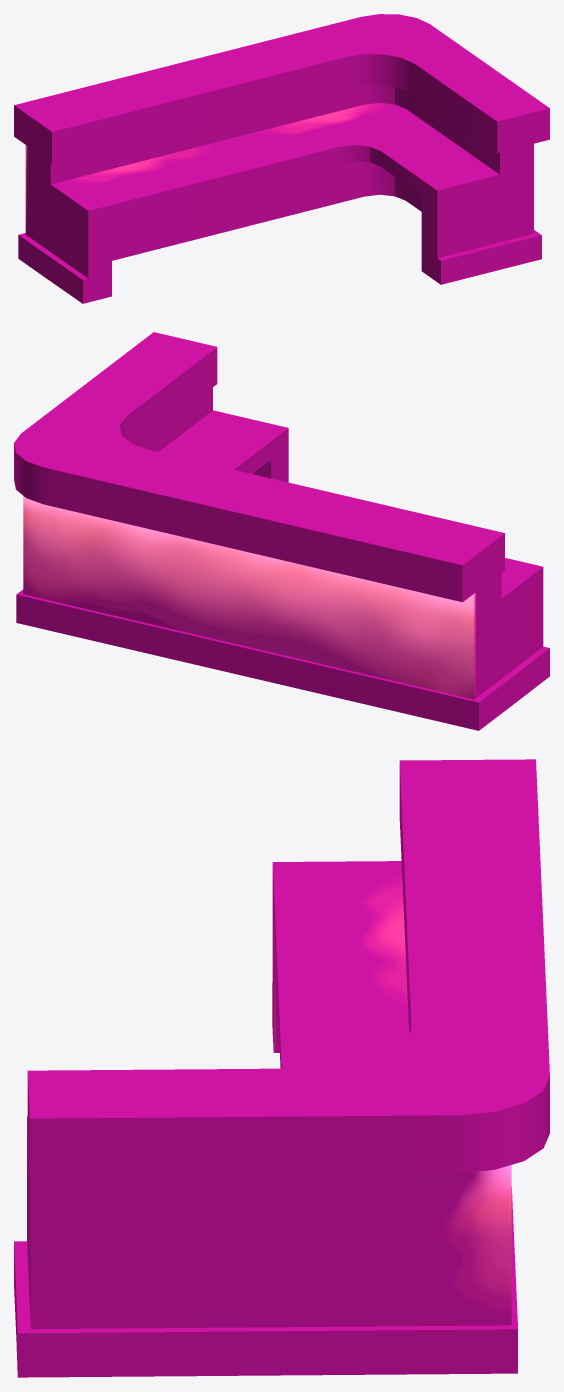
Rendered from Information_desk.fbx.
3 views of the same model, one above another, from view 1: azimuth 30°, elevation 25°; view 2: azimuth 150°, elevation 25°; view 3: azimuth 270°, elevation 25° (orthographic). The views are drawn at different scales.
Parts seen in each view (by area): view 1: Information_desk03; view 2: Information_desk03; view 3: Information_desk03.
Boxes of the visible parts, x1,y1,x2,y2 form: Information_desk03: (14, 14, 549, 303); Information_desk03: (14, 332, 549, 730); Information_desk03: (14, 759, 549, 1377).
Size of the model in its own units: 455 by 158 by 284.
